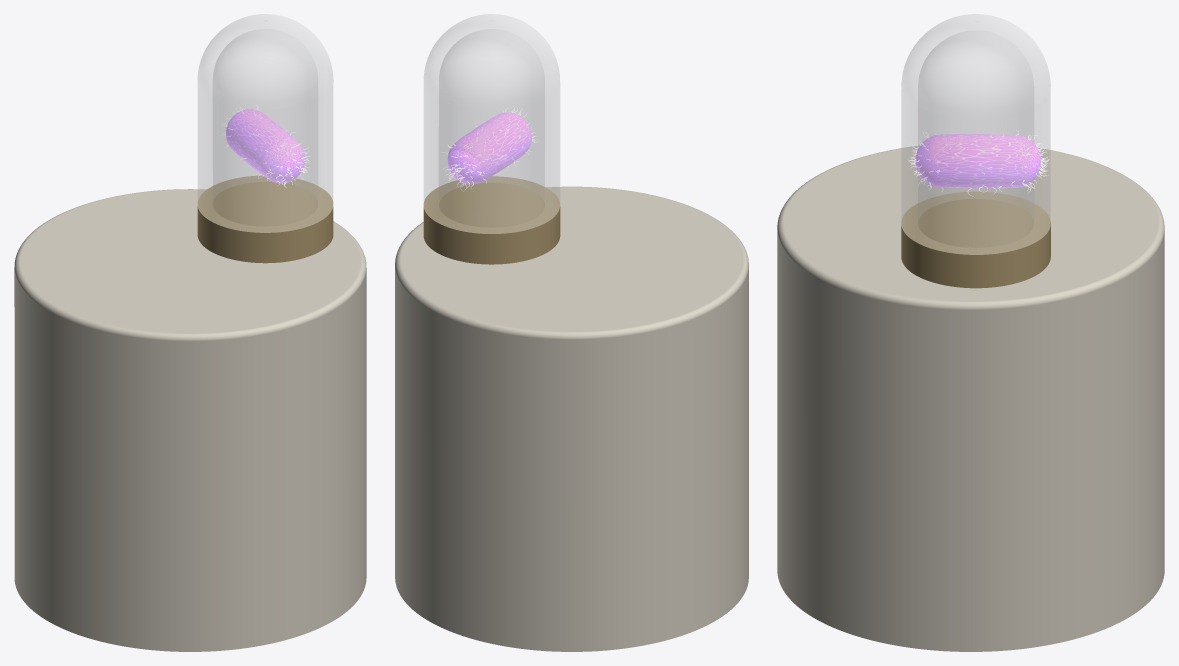
Rendered from bacteria_small_06.glb.
3 views of the same model, side by side, from view 1: azimuth 30°, elevation 25°; view 2: azimuth 150°, elevation 25°; view 3: azimuth 270°, elevation 25° (orthographic). The views are drawn at different scales.
Visible parts, largest first — view 1: PEANA_Vitrina_1, VITRINA_Campana_1, VITRINA_Base_1, Bacteria_Capsula_Mesh_18; view 2: PEANA_Vitrina_1, VITRINA_Campana_1, VITRINA_Base_1, Bacteria_Capsula_Mesh_18; view 3: PEANA_Vitrina_1, VITRINA_Campana_1, VITRINA_Base_1, Bacteria_Capsula_Mesh_18, Bacteria_Pili_Mesh_18.
Part boxes in pixels (bbox=[...]): PEANA_Vitrina_1: bbox=[14, 189, 366, 651]; VITRINA_Campana_1: bbox=[198, 14, 333, 232]; VITRINA_Base_1: bbox=[197, 175, 333, 263]; Bacteria_Capsula_Mesh_18: bbox=[226, 109, 305, 183]; PEANA_Vitrina_1: bbox=[395, 186, 748, 651]; VITRINA_Campana_1: bbox=[424, 14, 559, 233]; VITRINA_Base_1: bbox=[423, 176, 560, 264]; Bacteria_Capsula_Mesh_18: bbox=[447, 112, 531, 184]; PEANA_Vitrina_1: bbox=[777, 145, 1164, 651]; VITRINA_Campana_1: bbox=[901, 14, 1050, 254]; VITRINA_Base_1: bbox=[901, 191, 1050, 288]; Bacteria_Capsula_Mesh_18: bbox=[915, 134, 1041, 188]; Bacteria_Pili_Mesh_18: bbox=[907, 130, 1049, 196].
Bounding box in the file's own units: 0.5949 × 1 × 0.5949.
5 materials, 1 textured.
